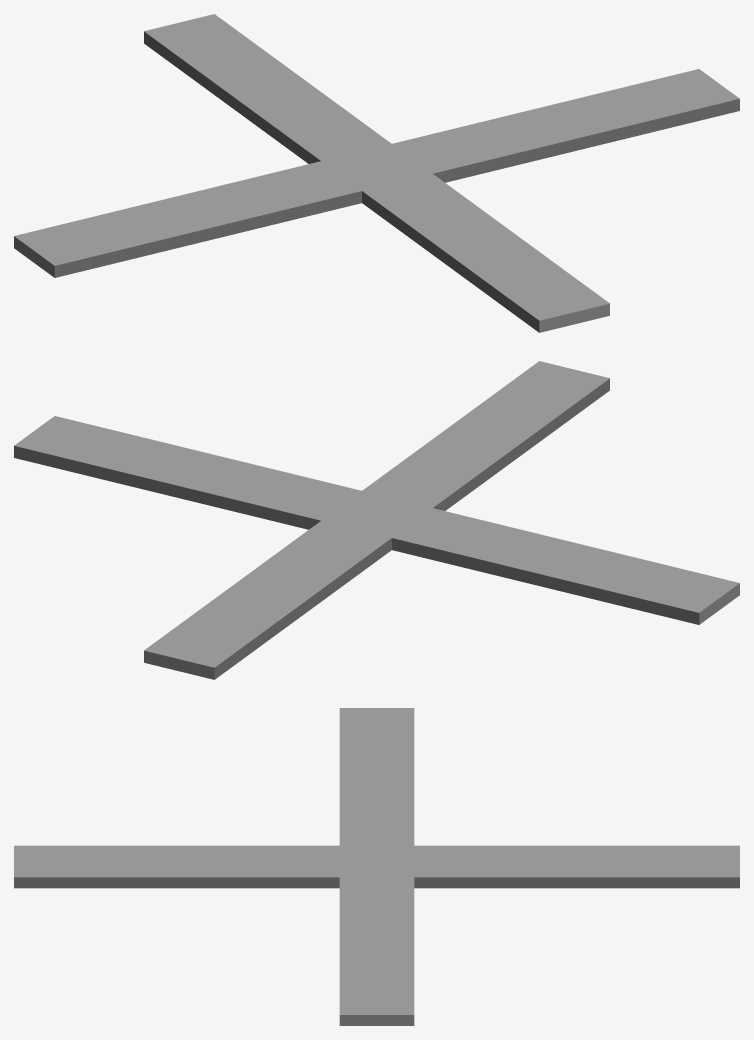
File: SO_CeilingFan.fbx
The picture shows the model from 3 angles, top to bottom: view 1: azimuth 30°, elevation 25°; view 2: azimuth 150°, elevation 25°; view 3: azimuth 270°, elevation 25°; orthographic projection. The views are drawn at different scales.
Visible parts, largest first — view 1: SO_CeilingFan_Blade; view 2: SO_CeilingFan_Blade; view 3: SO_CeilingFan_Blade.
Part boxes in pixels (x1,y1,x2,y2): SO_CeilingFan_Blade: (14,14,739,332); SO_CeilingFan_Blade: (14,361,739,679); SO_CeilingFan_Blade: (14,708,739,1025).
Size of the model in its own units: 2.76 by 0.0467 by 2.76.
